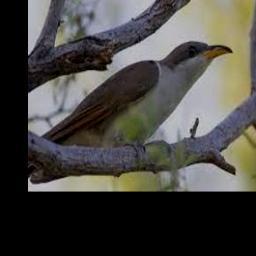Cuckoo: (38, 40, 232, 148)
